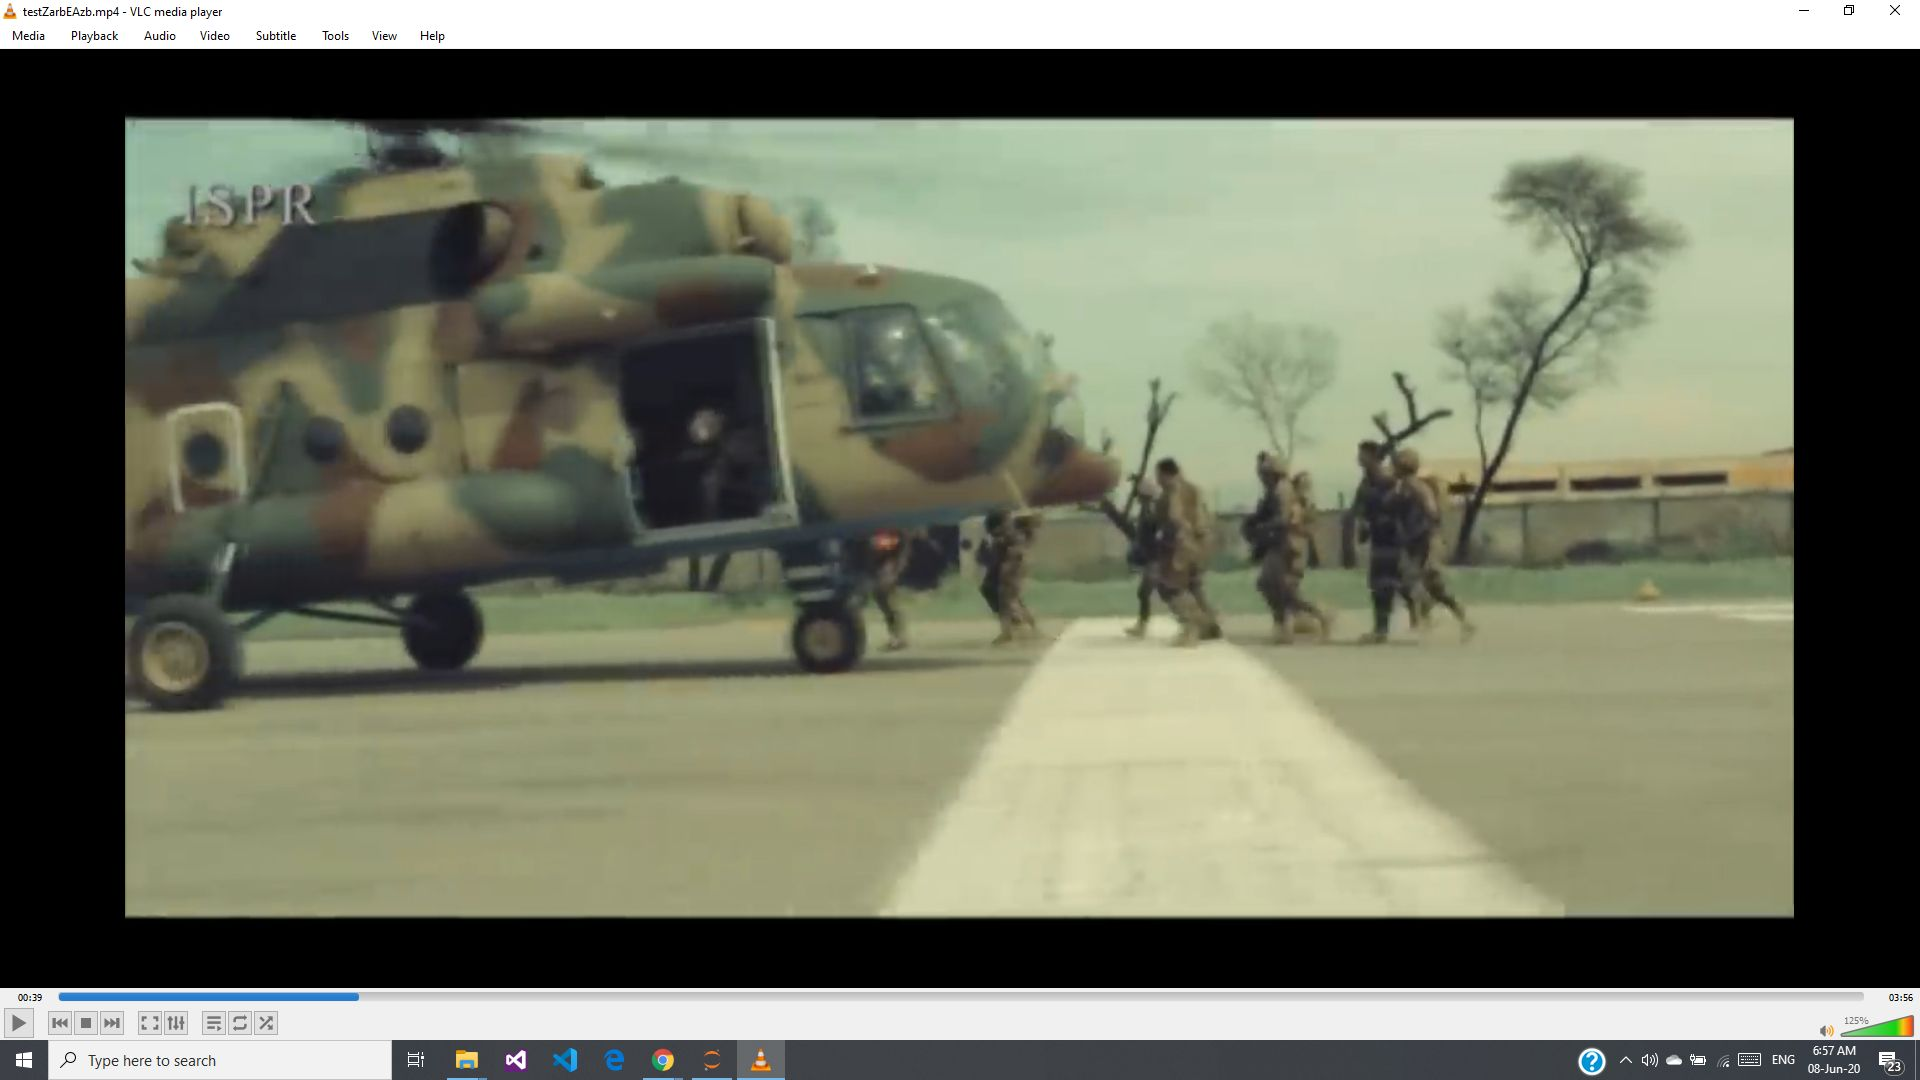uniform: (963, 442, 1062, 694), (1337, 434, 1418, 662), (1251, 444, 1324, 647), (1389, 398, 1448, 642), (1147, 444, 1213, 662)
